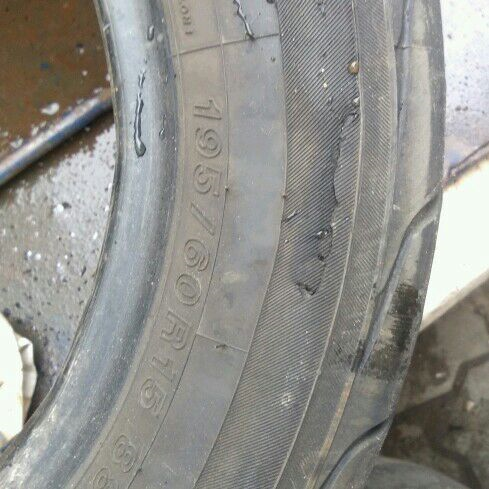cut: (299, 109, 347, 296)
